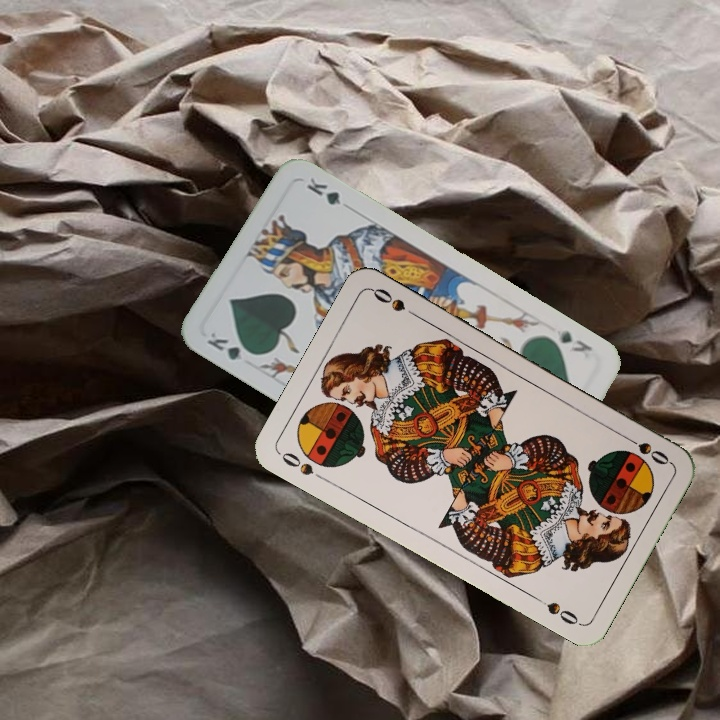GK: (202, 328, 259, 363), (552, 325, 595, 356)
SO: (619, 431, 673, 468), (276, 448, 316, 479)
